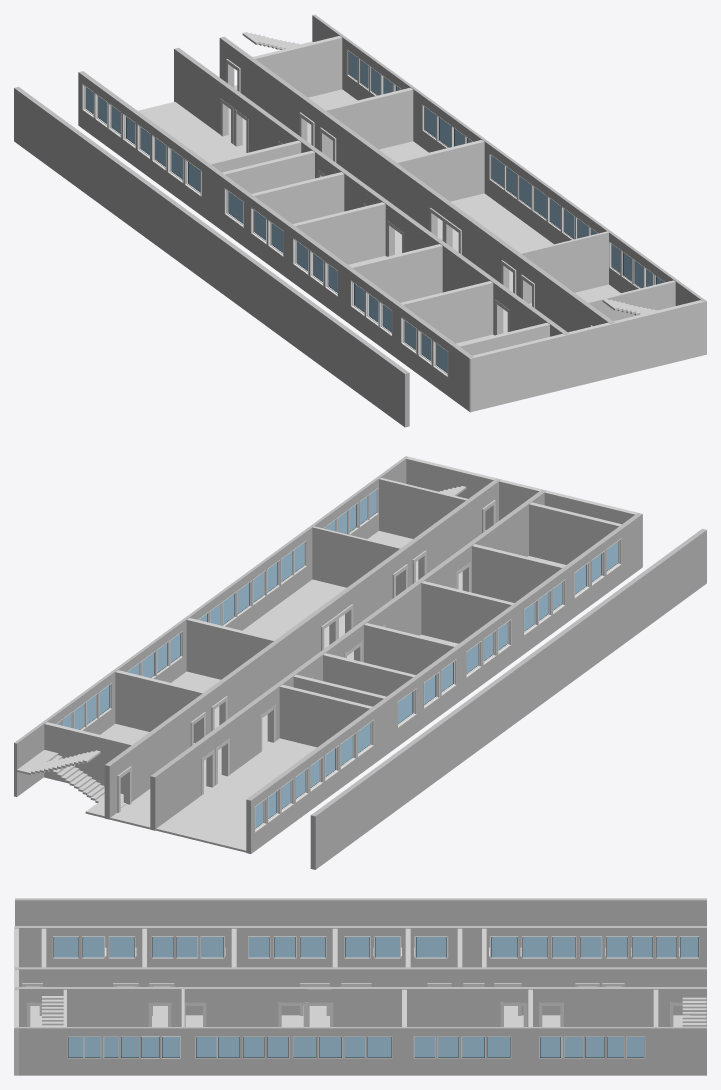
The model's file is 1er Etage.fbx.
3 renders of one model, top to bottom at view 1: azimuth 30°, elevation 25°; view 2: azimuth 150°, elevation 25°; view 3: azimuth 270°, elevation 25°, orthographic. The views are drawn at different scales.
Parts seen in each view (by area): view 1: Façade Arrière, Façade Arrière.004, Façade Arrière.001, Façade Gauche, Façade Avant.001, Couloir Haut, Sol bas, Autre, Mur 102 - English, Mur 104 - 103, Mur 106 - 107, Mur Esc - 106 (+9 smaller); view 2: Façade Arrière, Façade Arrière.004, Façade Arrière.001, Façade Avant.001, Couloir Haut, Sol haut, Façade Gauche, Sol bas, Autre, Mur 105 - Toilettes, Mur 103 - 102, Mur English - Toilettes (+10 smaller); view 3: Façade Avant.001, Façade Arrière, Façade Arrière.004, Façade Arrière.001, Couloir Haut, Façade Arrière.002, Sol couloir$, Window.031, Façade Gauche, Window.030, Window.040, Window.029 (+43 smaller).
Boxes of the visible parts, <box> form: Façade Arrière: <box>14,86,409,427</box>; Façade Arrière.004: <box>78,71,473,411</box>; Façade Arrière.001: <box>219,36,614,332</box>; Façade Gauche: <box>469,300,706,412</box>; Façade Avant.001: <box>312,14,705,305</box>; Couloir Haut: <box>174,47,569,335</box>; Sol bas: <box>307,89,620,305</box>; Autre: <box>174,53,558,336</box>; Mur 102 - English: <box>400,281,493,343</box>; Mur 104 - 103: <box>293,202,385,264</box>; Mur 106 - 107: <box>324,87,413,159</box>; Mur Esc - 106: <box>253,36,342,97</box>; Façade Arrière: <box>310,528,706,869</box>; Façade Arrière.004: <box>246,513,642,853</box>; Façade Arrière.001: <box>104,478,500,819</box>; Façade Avant.001: <box>14,456,407,796</box>; Couloir Haut: <box>150,489,546,830</box>; Sol haut: <box>156,556,565,852</box>; Façade Gauche: <box>405,456,642,567</box>; Sol bas: <box>100,531,418,743</box>; Autre: <box>150,496,544,794</box>; Mur 105 - Toilettes: <box>279,684,374,747</box>; Mur 103 - 102: <box>421,581,514,643</box>; Mur English - Toilettes: <box>529,502,621,564</box>; Façade Avant.001: <box>15,1027,706,1075</box>; Façade Arrière: <box>15,898,706,947</box>; Façade Arrière.004: <box>15,926,706,967</box>; Façade Arrière.001: <box>15,987,706,1026</box>; Couloir Haut: <box>15,967,706,1015</box>; Façade Arrière.002: <box>333,1004,500,1026</box>; Sol couloir$: <box>30,1013,689,1026</box>; Window.031: <box>414,936,448,958</box>; Façade Gauche: <box>14,926,18,1075</box>; Window.030: <box>489,936,518,958</box>; Window.040: <box>108,936,135,958</box>; Window.029: <box>521,936,548,958</box>.
Bounding box in the file's own units: 12.73 × 2.18 × 28.64.
